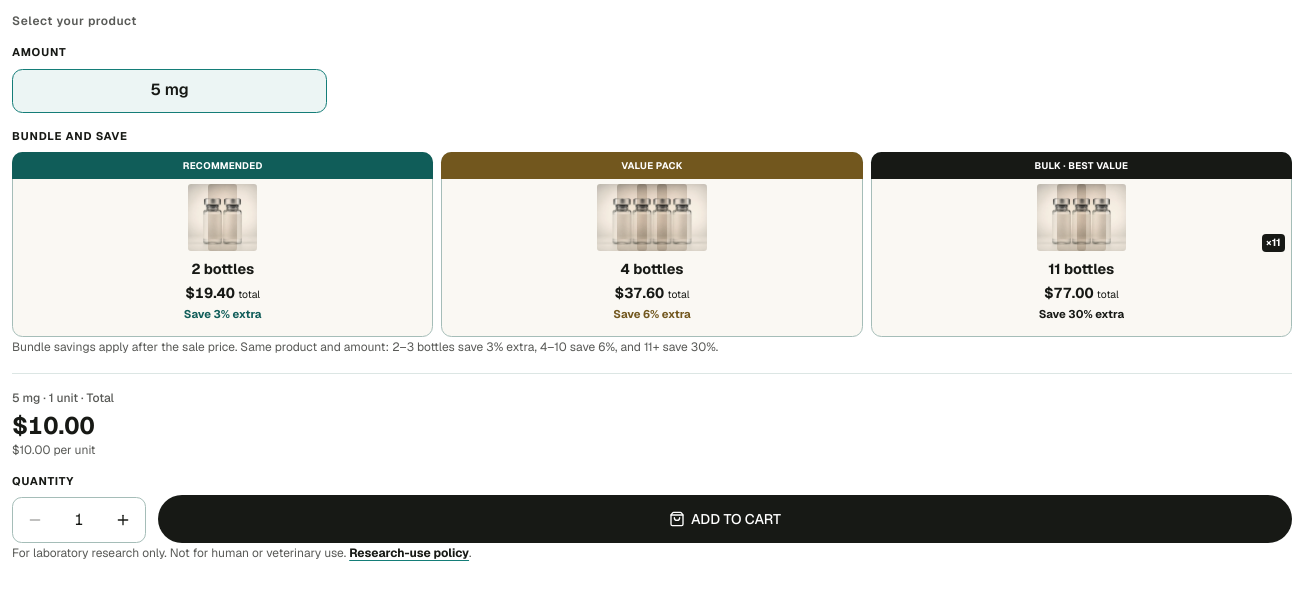
it: ProductPurchasePanel › highlights the exact four-bottle choice for 1-bottle packages
The width and height of the screenshot is (1304, 610).
Step 1. Click the button with aria-label "4 bottles," → {"x": 652, "y": 244}, box [441, 152, 863, 337]
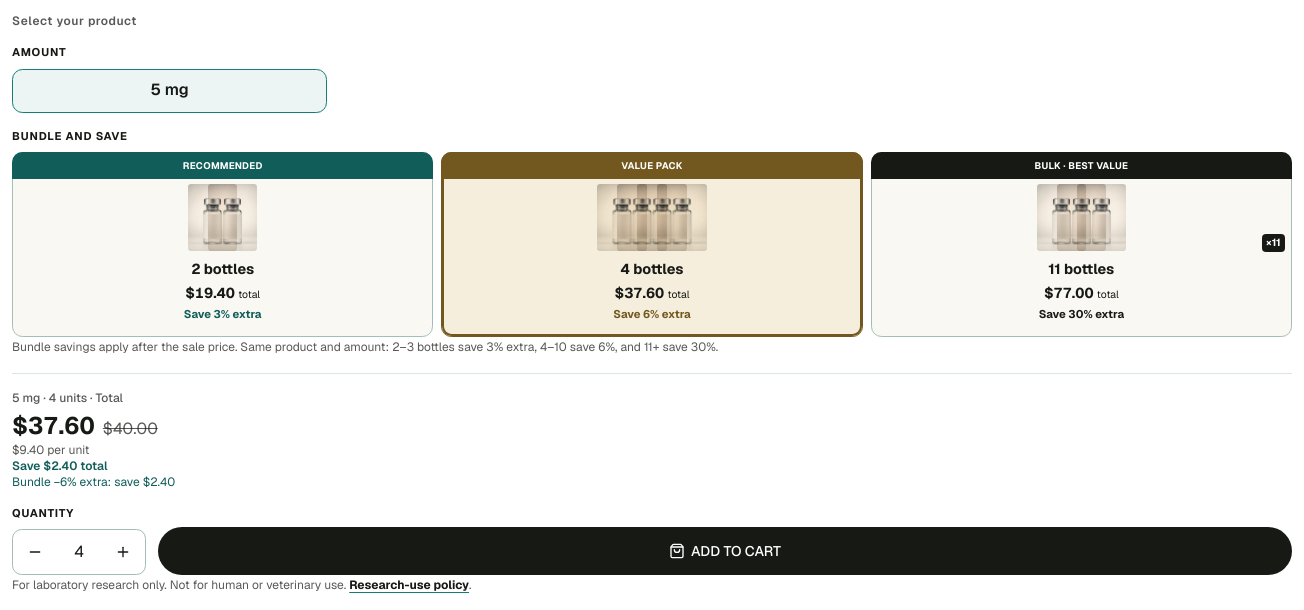
Now the number field labelled "Quantity" holds "4", box [57, 530, 101, 574]
Step 2. Click the button named "Increase quantity" → {"x": 123, "y": 552}, box [101, 530, 145, 574]
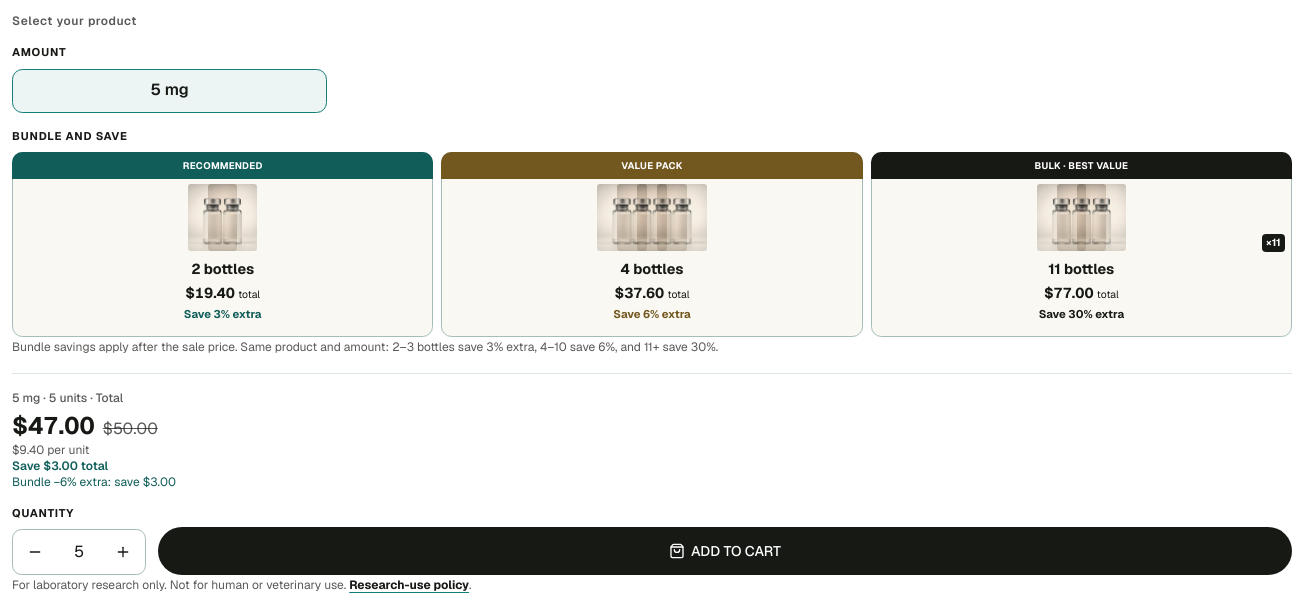
Now the message named "Purchase summary" shows "Bundle −6% extra", box [12, 390, 176, 490]
Now the number field labelled "Quantity" holds "5", box [57, 530, 101, 574]
